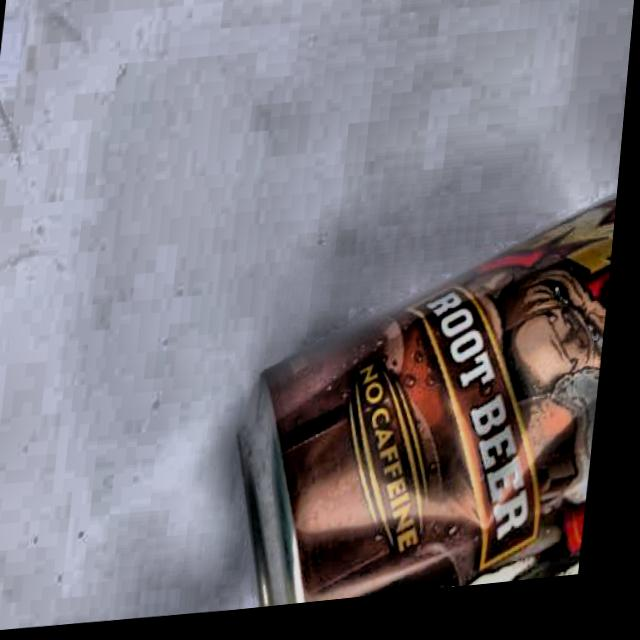Cans: (227, 174, 624, 618)
